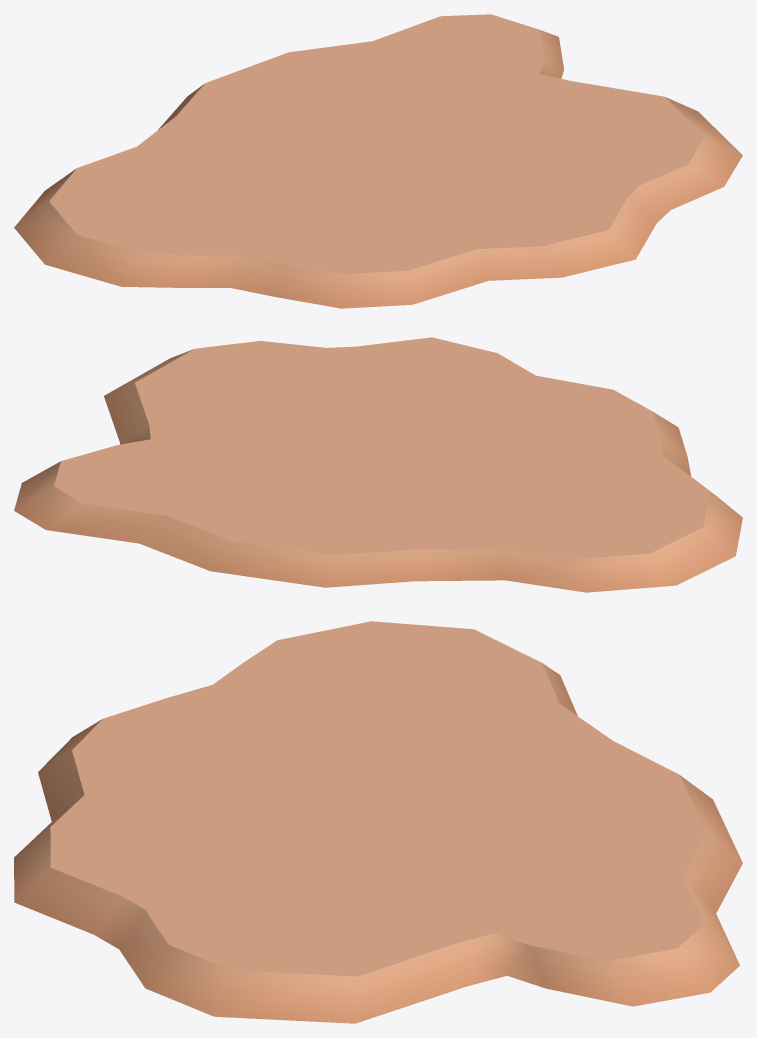
The model's file is patch-sand.glb.
3 views of the same model, one above another, from view 1: azimuth 30°, elevation 25°; view 2: azimuth 150°, elevation 25°; view 3: azimuth 270°, elevation 25° (orthographic). The views are drawn at different scales.
Parts seen in each view (by area): view 1: patch-sand; view 2: patch-sand; view 3: patch-sand.
Part boxes in pixels (x1,y1,x2,y2): patch-sand: [14, 14, 742, 308]; patch-sand: [14, 337, 742, 592]; patch-sand: [14, 621, 742, 1023].
Bounding box in the file's own units: 7.74 × 0.2503 × 6.04.
Materials: 1 (1 with a texture image).
